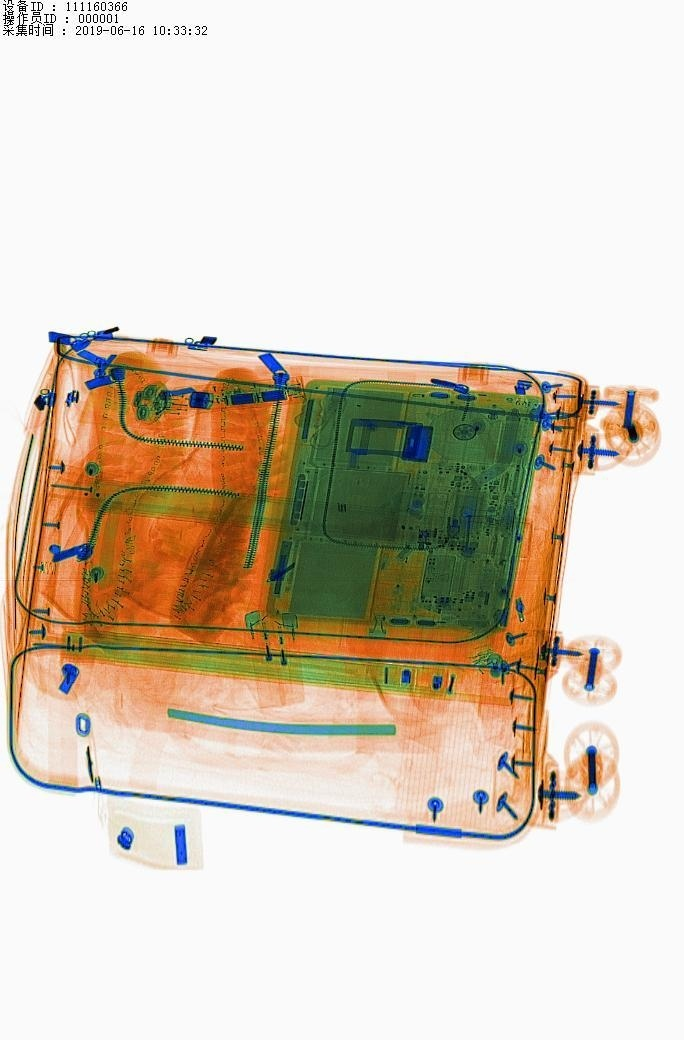NonmetallicFire: (214, 593, 347, 710)
